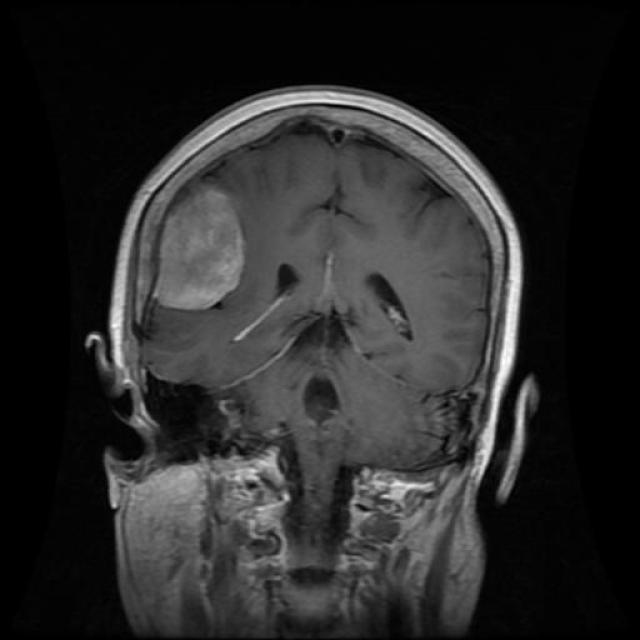meningioma: (155, 184, 245, 311)
